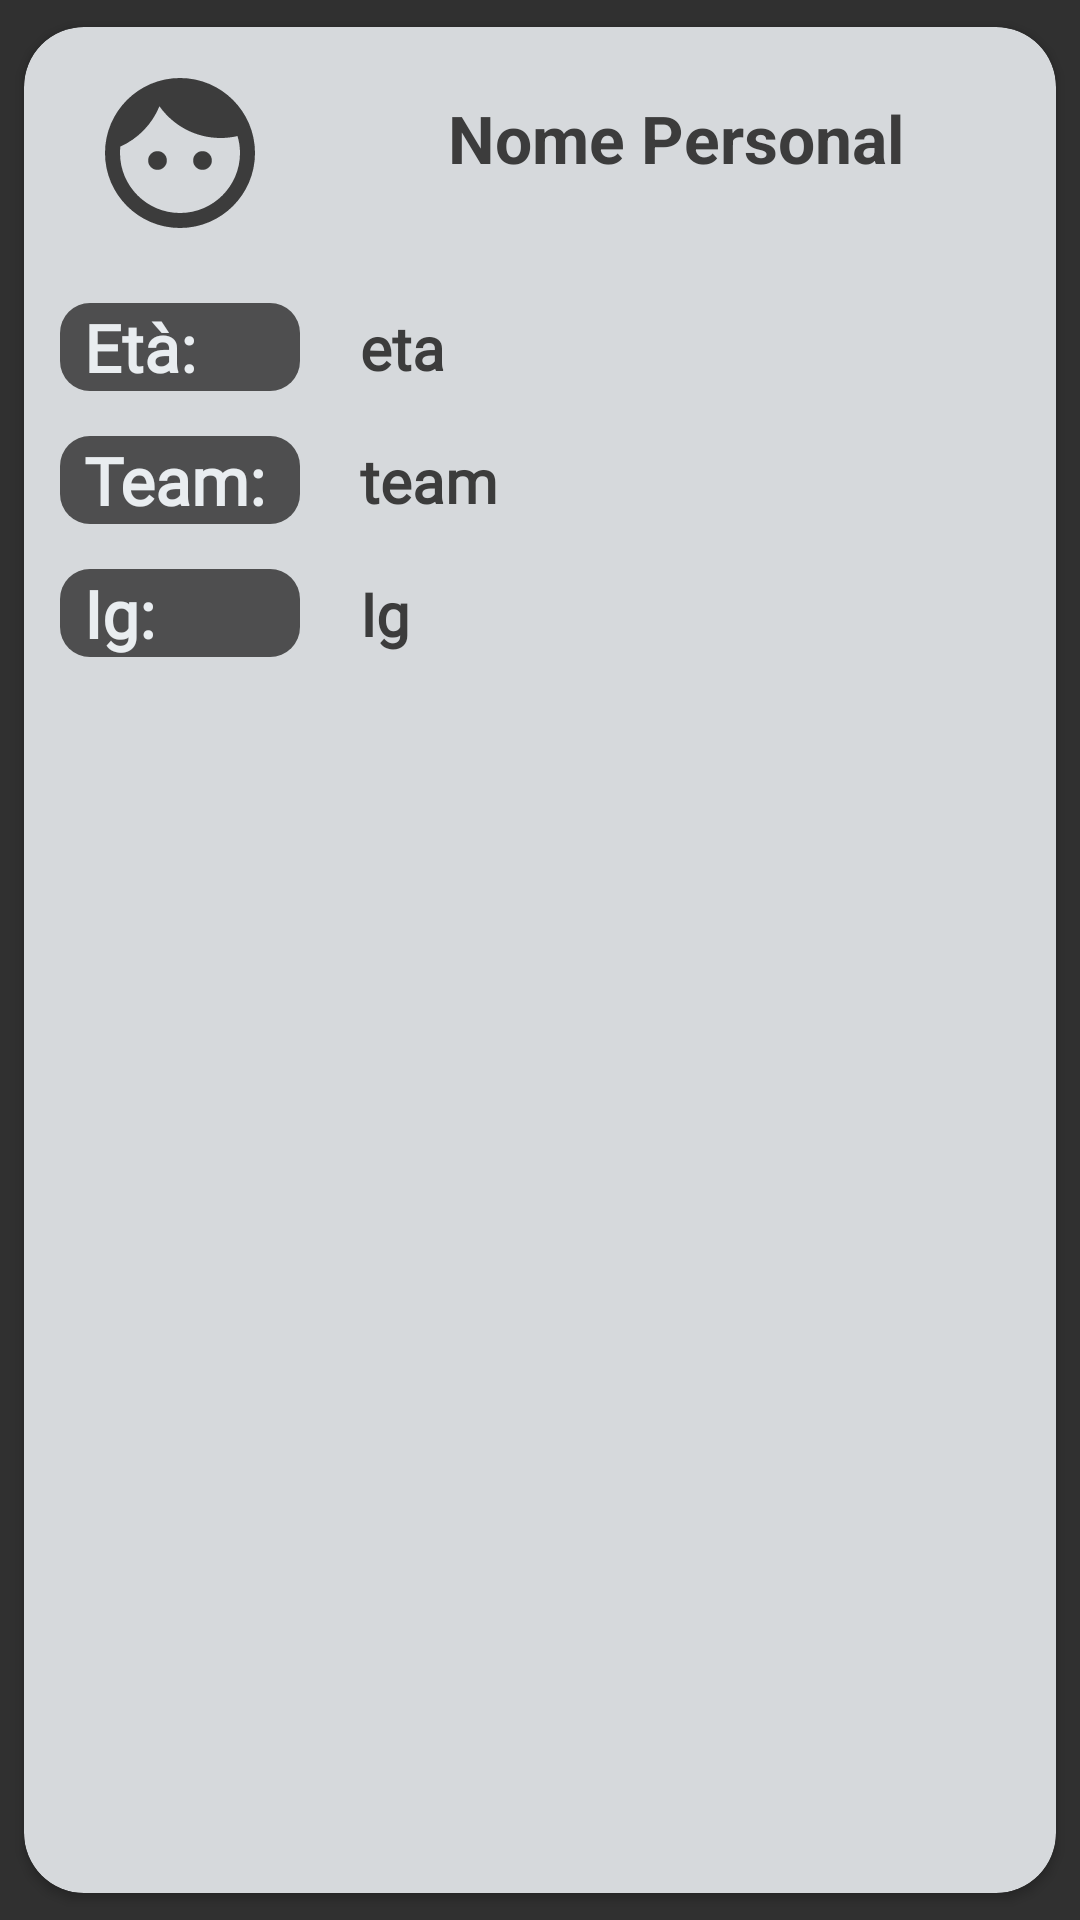

Icons on this 1080*1920 Android screen, each with the point to tap as (x=x, y=y):
face: (x=180, y=153)
